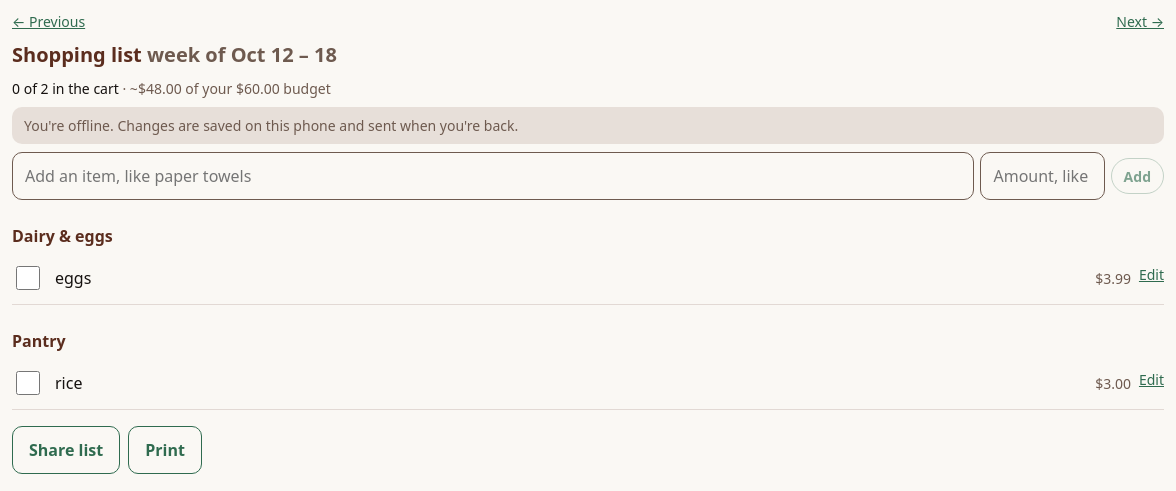
it: ListPage › works from the phone’s copy offline, and sends changes when back
Check: the text "You're offline. Changes are saved on this phone and sent when you're back." is shown, box x1=12 y1=107 x2=1164 y2=144
Click the checkbox labelled "rice" at (28, 383), box x1=16 y1=371 x2=40 y2=395
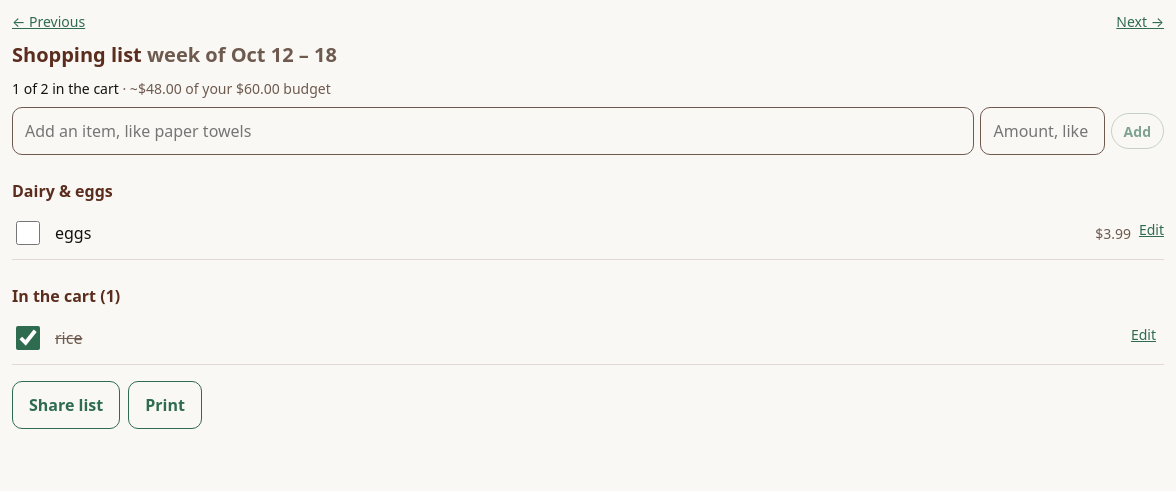
Check: the text "You're offline" is gone
Check: the text "1 of 2 in the cart · ~$48.00 of your $60.00 budget" is shown, box x1=12 y1=79 x2=331 y2=98
